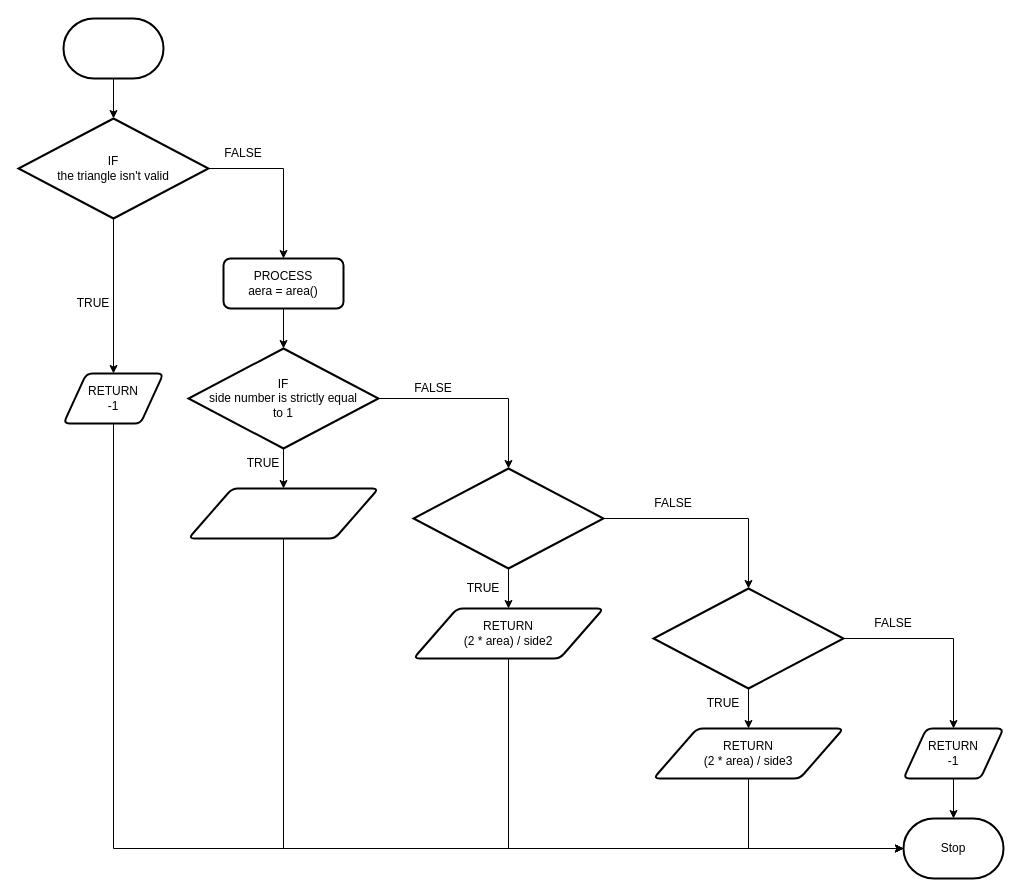
This 1021x896 diagram has some shape labels left out. Each missing label, with the centre of its shape:
ELSE IF side number is strictly equal to 2: point 508,518
ELSE IF side number is strictly equal to 3: point 748,638
RETURN (2 * area) / side1: point 283,513
Start: point 113,48
